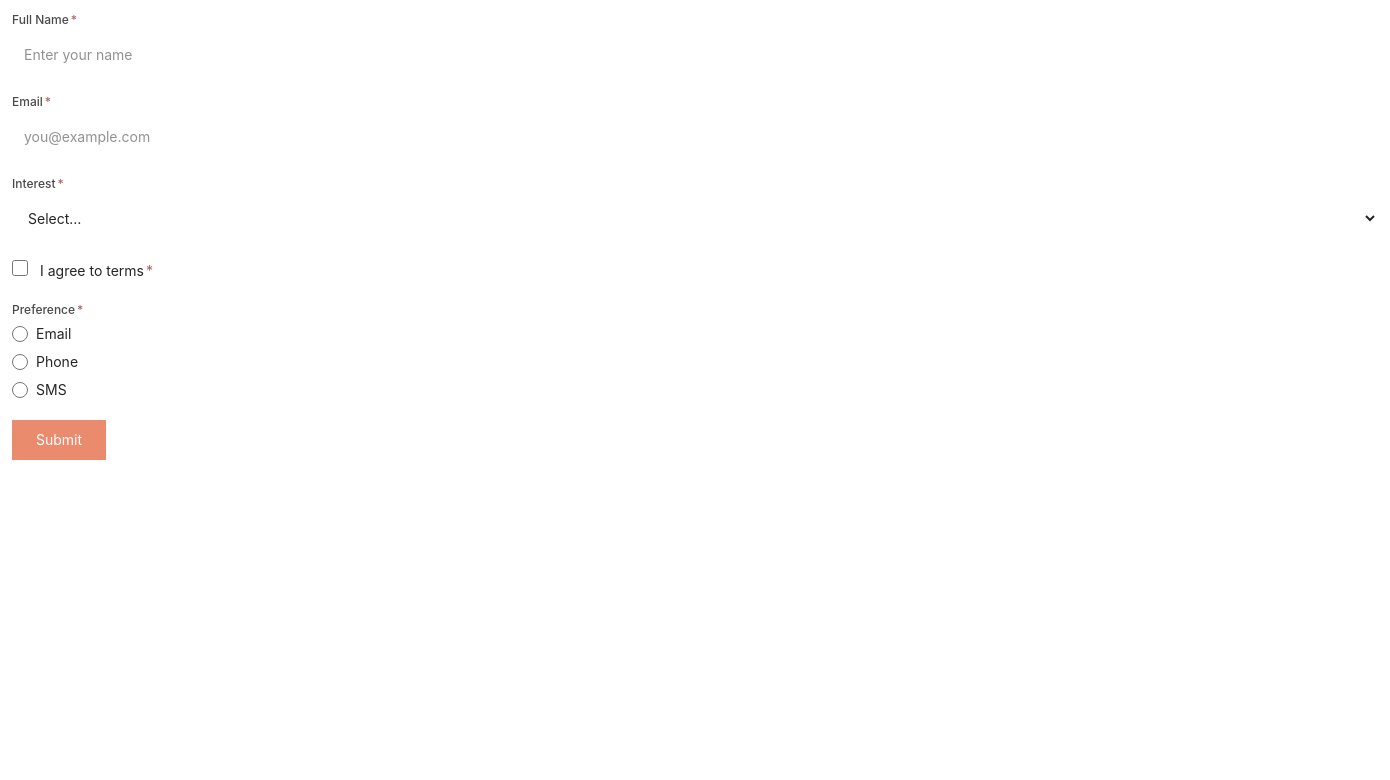
Test case: FormBuilder › shows required field errors on empty submit
What coordinates should you click on to do the following:
click the button "Submit"
I would click on:
 (59, 440)
Its box is x1=12 y1=420 x2=106 y2=460.
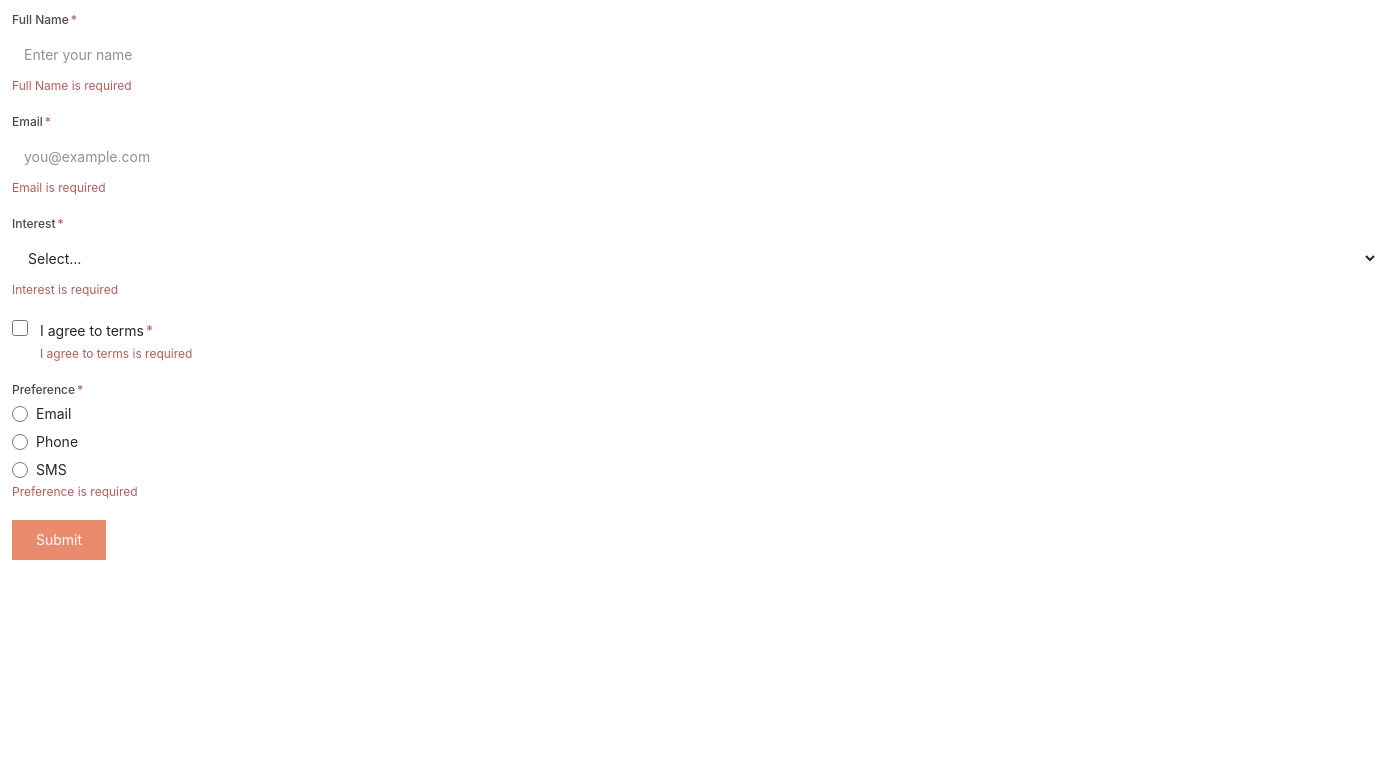
Check: the text "Full Name is required" is shown, box x1=12 y1=78 x2=132 y2=93
Check: the text "Email is required" is shown, box x1=12 y1=180 x2=106 y2=195
Check: the text "Interest is required" is shown, box x1=12 y1=282 x2=118 y2=297
